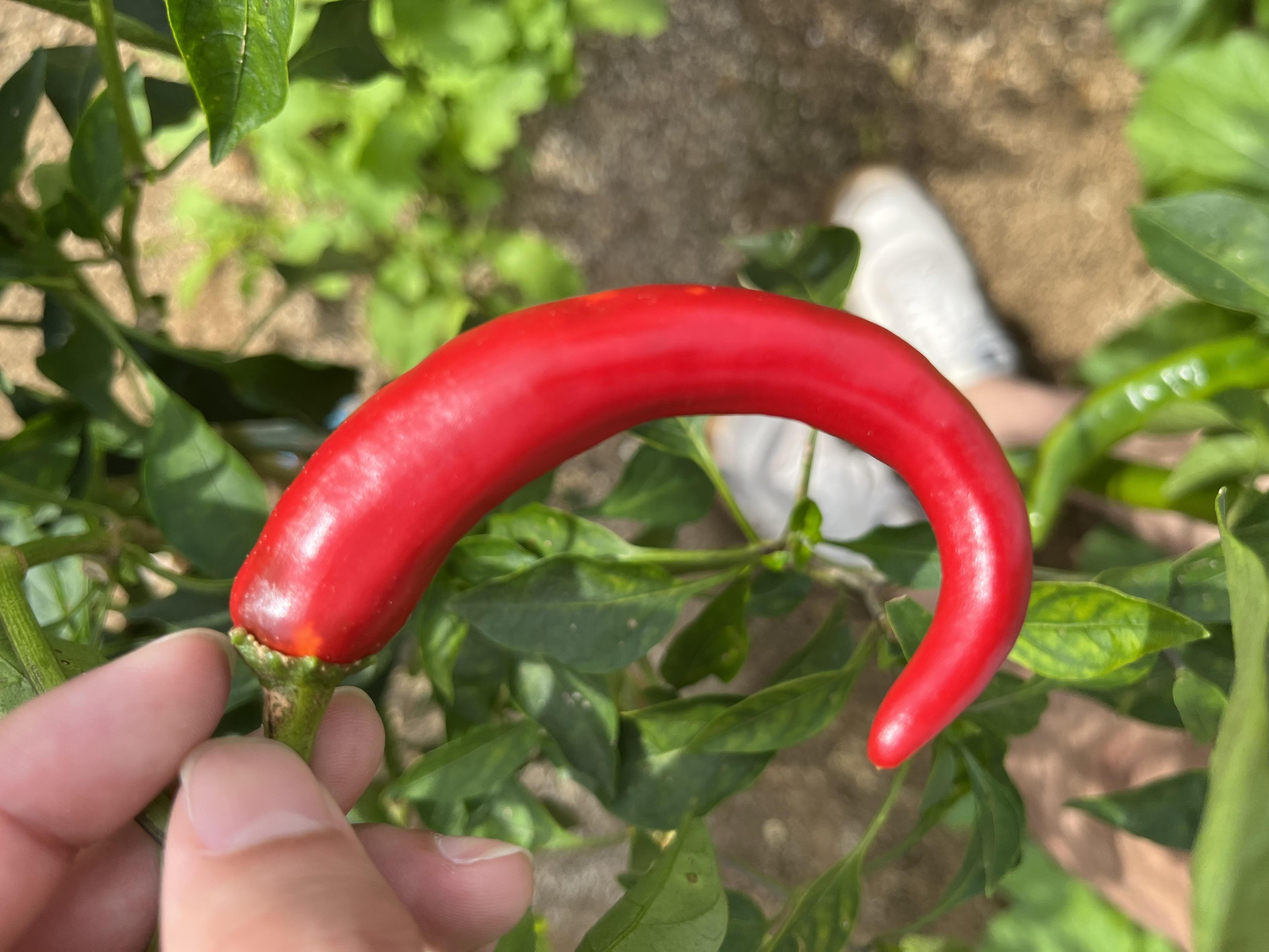Buah Cabai Sehat: (235, 157, 922, 791)
